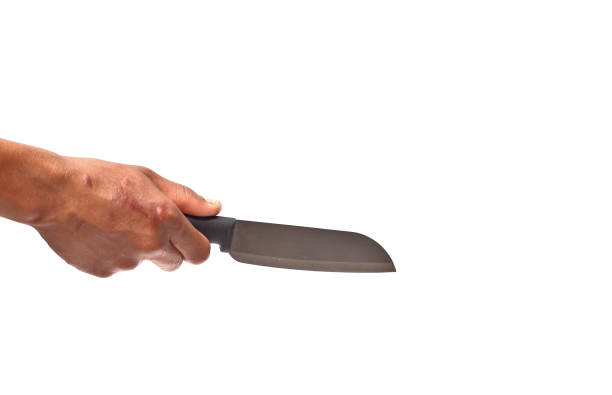knife: (183, 214, 398, 275)
